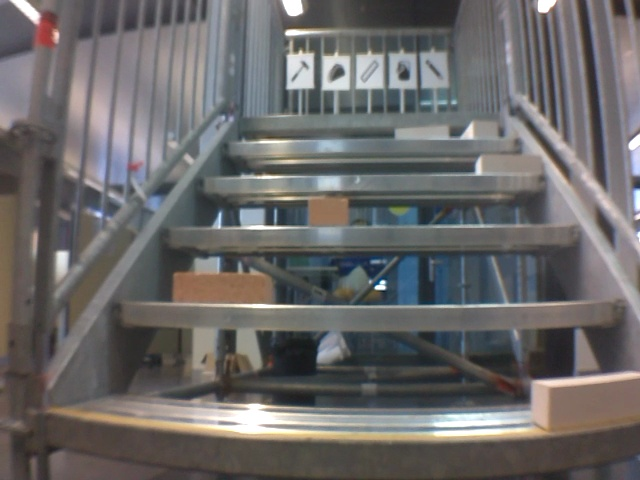brick: (531, 371, 640, 430), (173, 273, 274, 304), (476, 155, 540, 173), (308, 199, 348, 226), (394, 126, 448, 139), (459, 120, 497, 138)
bucket: (390, 58, 414, 83)
edge: (47, 414, 639, 476), (115, 300, 623, 329), (161, 226, 585, 246), (196, 174, 547, 189), (224, 138, 517, 151), (243, 113, 507, 126)
hammer: (288, 58, 312, 85)
pencil: (424, 57, 444, 81)
ruler: (358, 58, 379, 83)
stairs: (12, 2, 640, 476)
steps: (45, 108, 640, 476)
taco: (324, 60, 347, 84)
